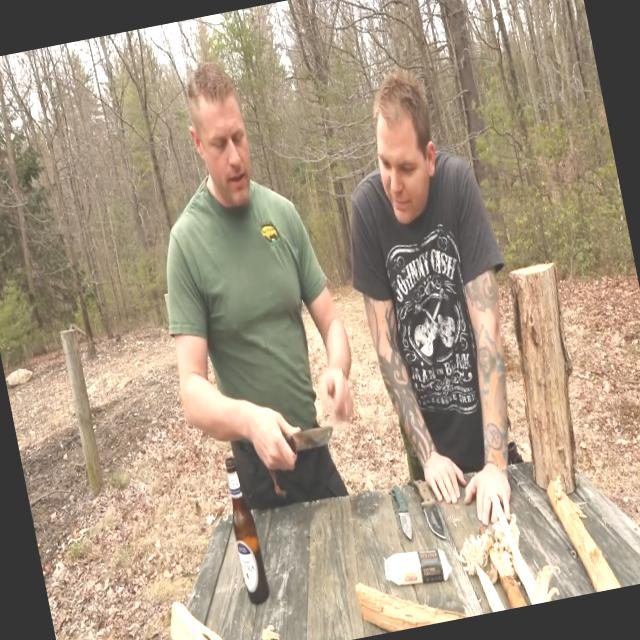knife: (248, 402, 352, 482)
